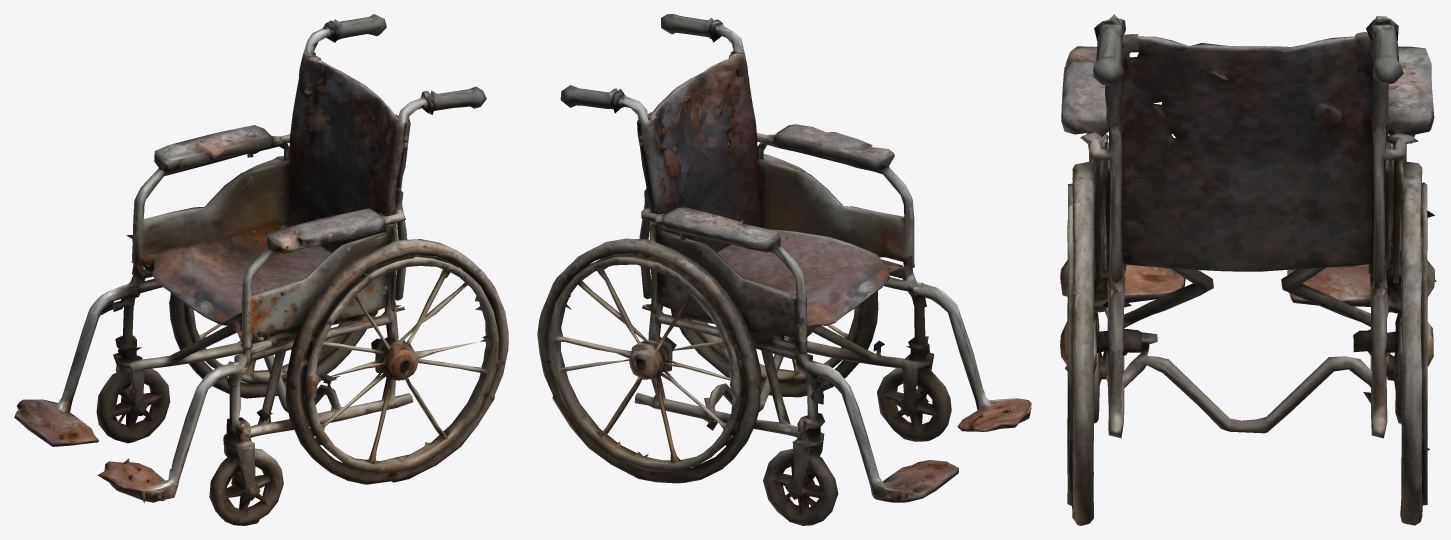
The model's file is wheelchair.glb.
3 renders of one model, left to right at view 1: azimuth 30°, elevation 25°; view 2: azimuth 150°, elevation 25°; view 3: azimuth 270°, elevation 25°, orthographic. The views are drawn at different scales.
Visible parts, largest first — view 1: wheelchair / mesh; view 2: wheelchair / mesh; view 3: wheelchair / mesh.
Part boxes in pixels (x1,y1,x2,y2): wheelchair / mesh: (14, 14, 508, 525); wheelchair / mesh: (537, 14, 1031, 525); wheelchair / mesh: (1060, 14, 1436, 525).
Bounding box in the file's own units: 1.13 × 1.06 × 0.6827.
1 material, 1 textured.
